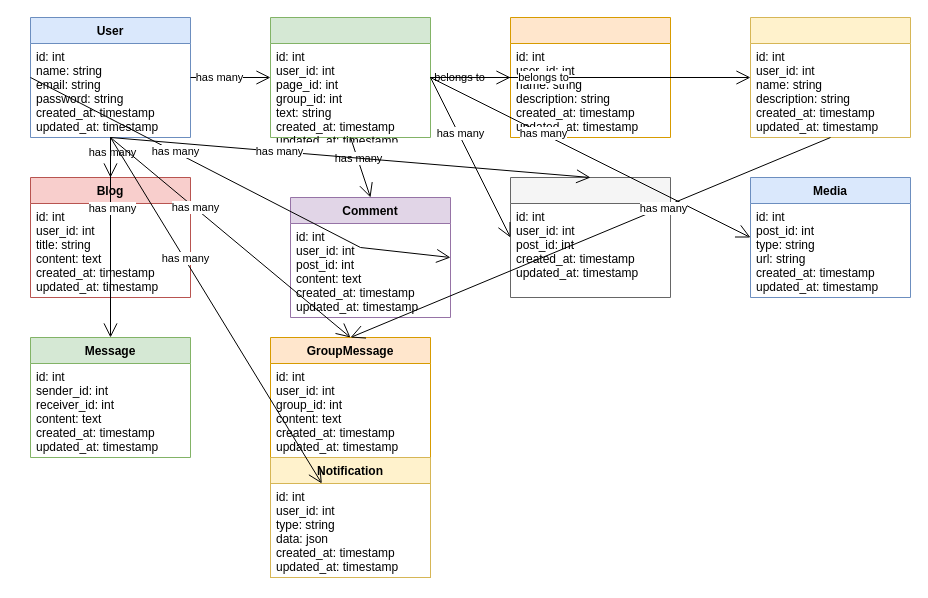
The diagram is 928 pixels wide and 598 high, and some of its shapes have lost their labels. Each missing label, with the box of its shape:
Group: (750, 16, 910, 138)
Like: (510, 176, 670, 298)
Page: (510, 16, 670, 138)
Post: (270, 16, 430, 138)
